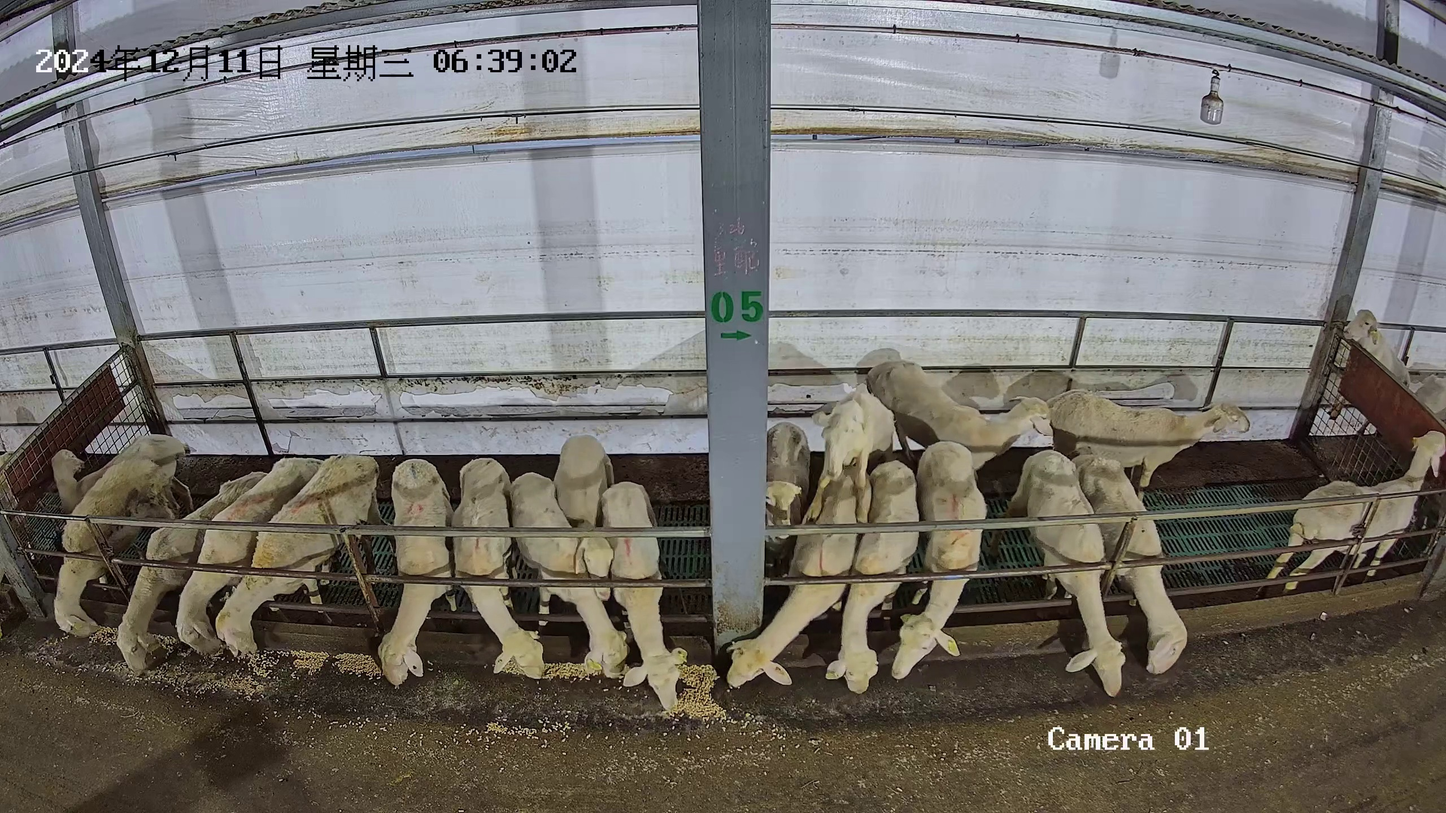Nmounting: (799, 387, 900, 667)
